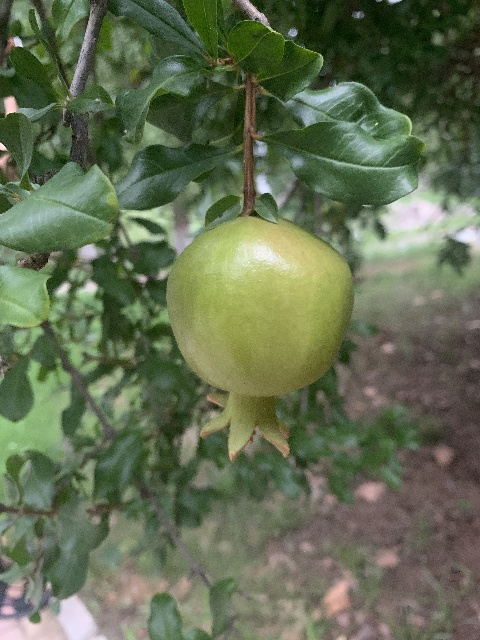mid-growth: (166, 214, 353, 463)
